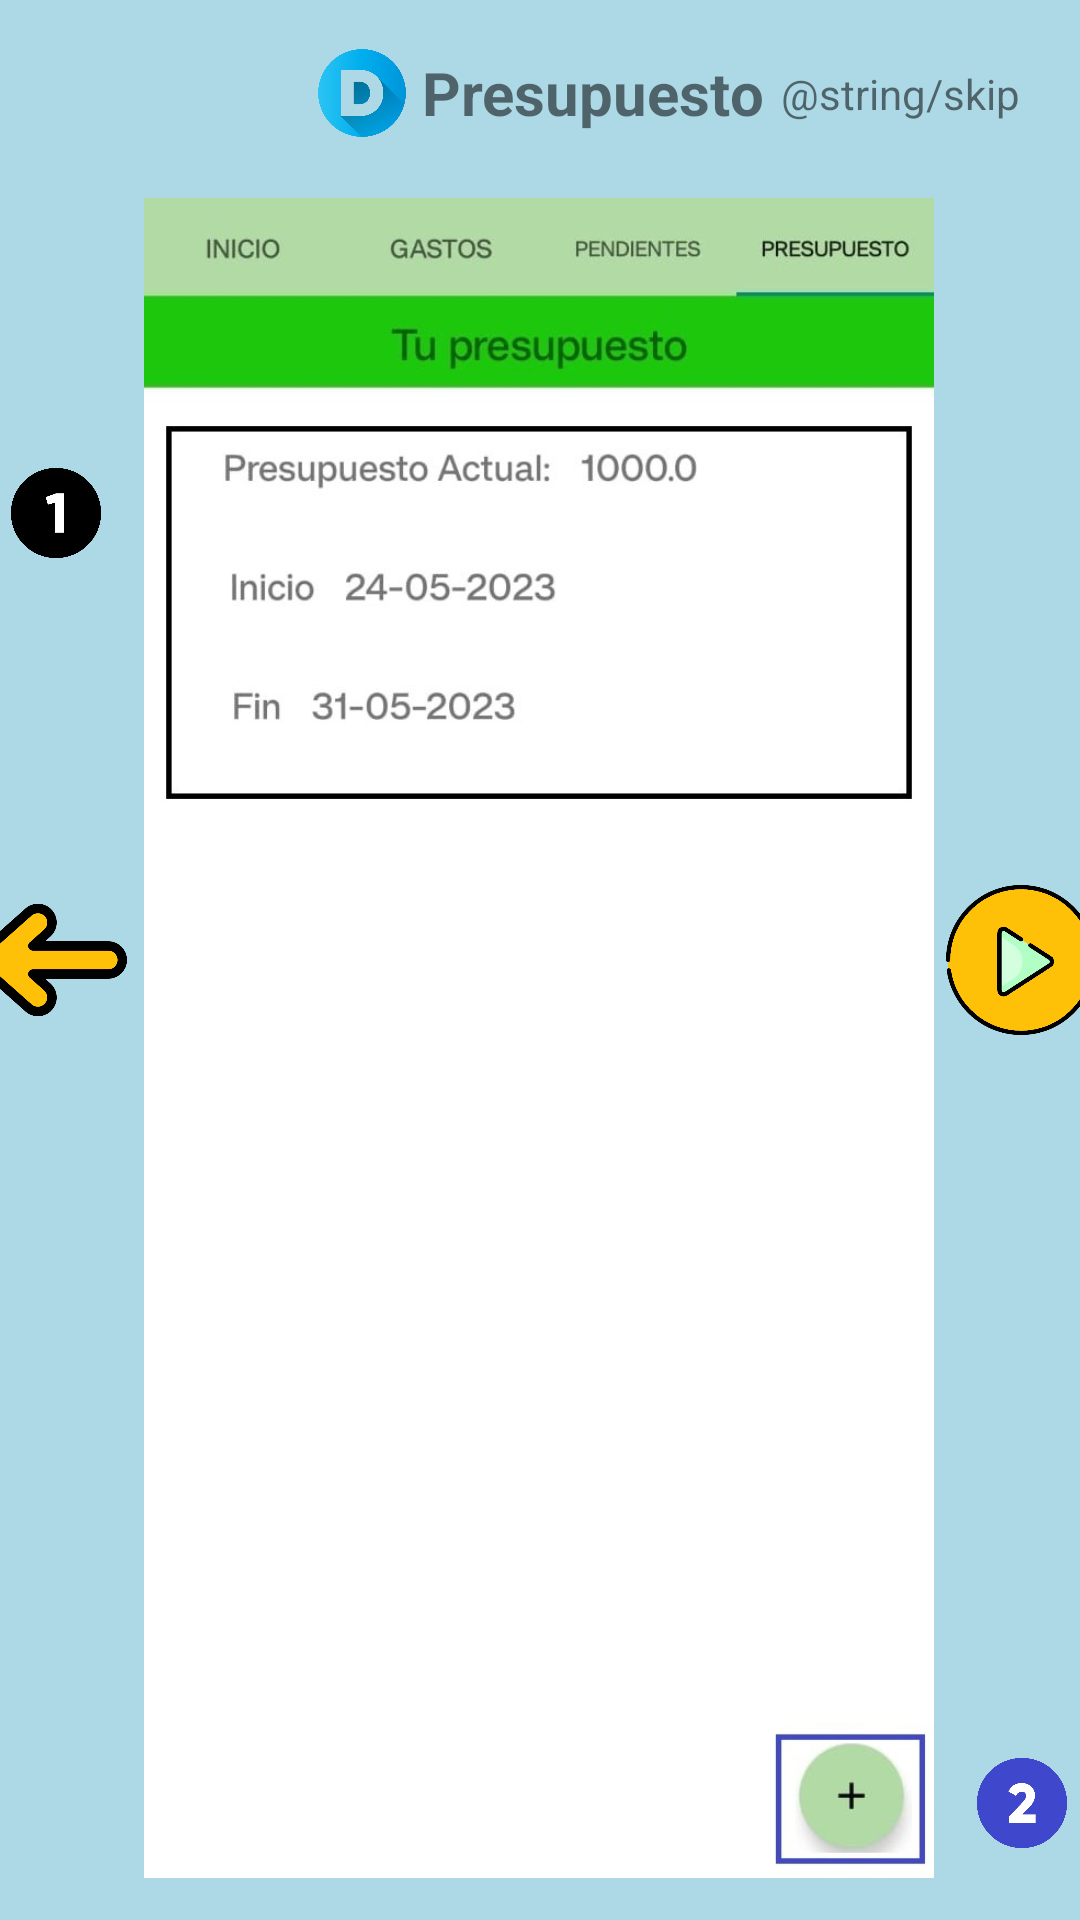

Icon click points for this 1080w x 1920h phone screenshot, format (x=x, y=y):
letra: (x=362, y=93)
numero azul: (x=1022, y=1803)
numero negro: (x=56, y=513)
